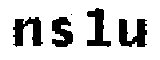1: (85, 6, 113, 49)
n: (11, 15, 43, 48)
s: (48, 14, 75, 50)
u: (118, 15, 147, 50)
